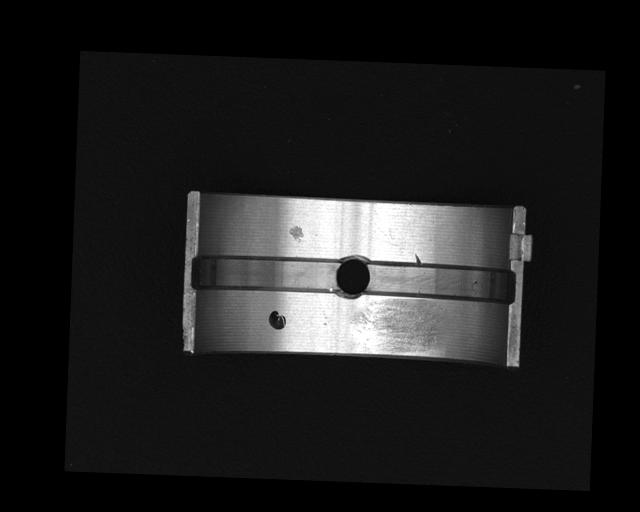blot: (267, 310, 287, 332)
bruise: (287, 224, 305, 242), (414, 253, 421, 264)
gap: (362, 258, 516, 304), (191, 253, 341, 296)
hole: (333, 254, 370, 300)
scratch: (347, 297, 445, 356)
